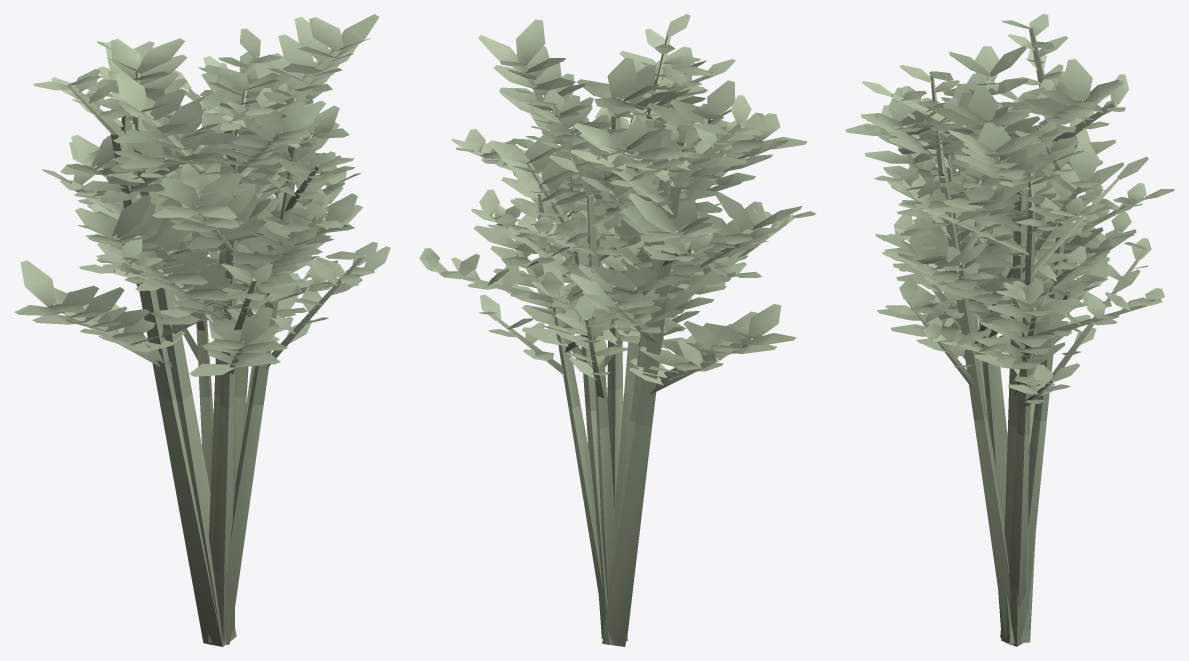
Rendered from shrub_upright.glb.
3 renders of one model, left to right at view 1: azimuth 30°, elevation 25°; view 2: azimuth 150°, elevation 25°; view 3: azimuth 270°, elevation 25°, orthographic. The views are drawn at different scales.
Parts seen in each view (by area): view 1: v1_foliage, v0_foliage, v0_bark, v1_bark; view 2: v1_foliage, v0_foliage, v0_bark, v1_bark; view 3: v1_foliage, v0_foliage, v0_bark, v1_bark.
Part boxes in pixels (x1=…): v1_foliage: x1=14, y1=14, x2=378, y2=376; v0_foliage: x1=33, y1=28, x2=390, y2=352; v0_bark: x1=67, y1=55, x2=374, y2=646; v1_bark: x1=52, y1=48, x2=340, y2=646; v1_foliage: x1=473, y1=19, x2=807, y2=377; v0_foliage: x1=419, y1=14, x2=816, y2=385; v0_bark: x1=431, y1=34, x2=794, y2=646; v1_bark: x1=515, y1=62, x2=758, y2=646; v1_foliage: x1=845, y1=45, x2=1136, y2=385; v0_foliage: x1=862, y1=14, x2=1174, y2=403; v0_bark: x1=891, y1=27, x2=1161, y2=644; v1_bark: x1=901, y1=74, x2=1095, y2=646.
Bounding box in the file's own units: 0.6049 × 1 × 0.5308.
